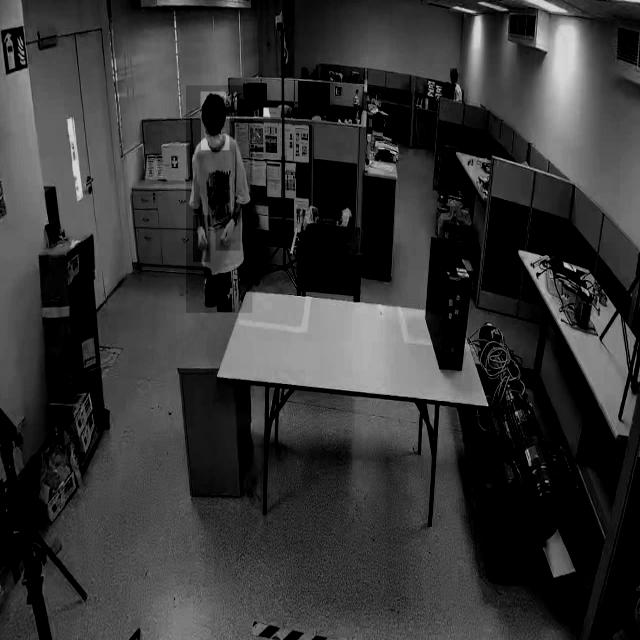face_mask: (201, 118, 229, 150)
hand_glove: (215, 212, 241, 252), (193, 215, 211, 263)
head_nohelmet: (200, 92, 227, 116), (450, 68, 458, 76)
person: (186, 85, 253, 314)
